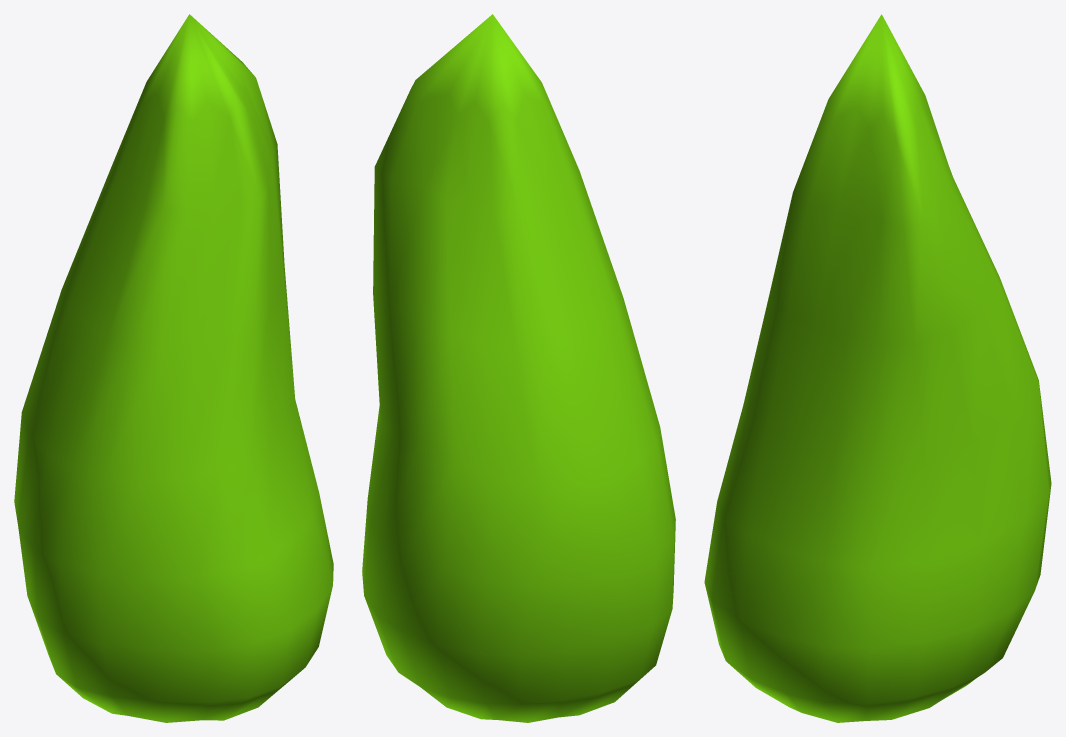
The model's file is Bush1.fbx.
The picture shows the model from 3 angles, left to right: view 1: azimuth 30°, elevation 25°; view 2: azimuth 150°, elevation 25°; view 3: azimuth 270°, elevation 25°; orthographic projection. The views are drawn at different scales.
Visible parts, largest first — view 1: pCone1; view 2: pCone1; view 3: pCone1.
Part boxes in pixels (x1,y1,x2,y2): pCone1: (14,14,333,722); pCone1: (362,14,675,722); pCone1: (704,14,1051,722).
Size of the model in its own units: 0.4164 by 0.9631 by 0.4359.
